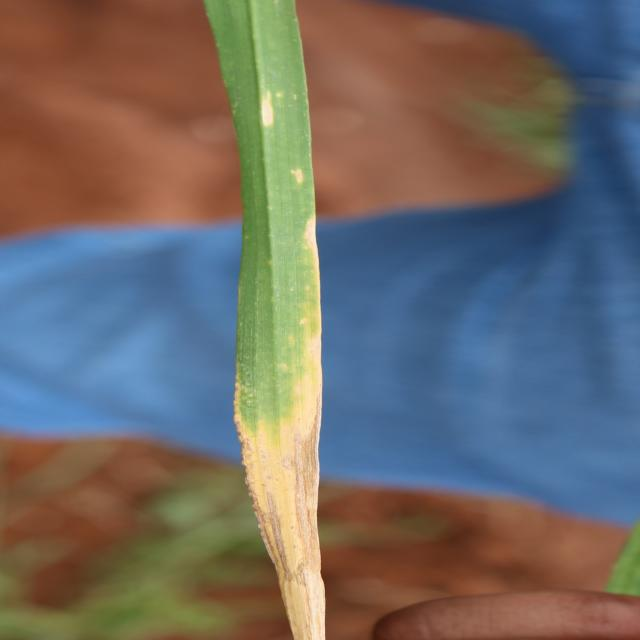Septoria: (202, 1, 328, 638)
